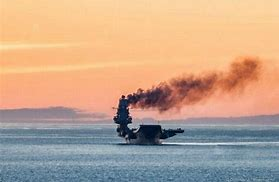smoke: (127, 54, 263, 112)
